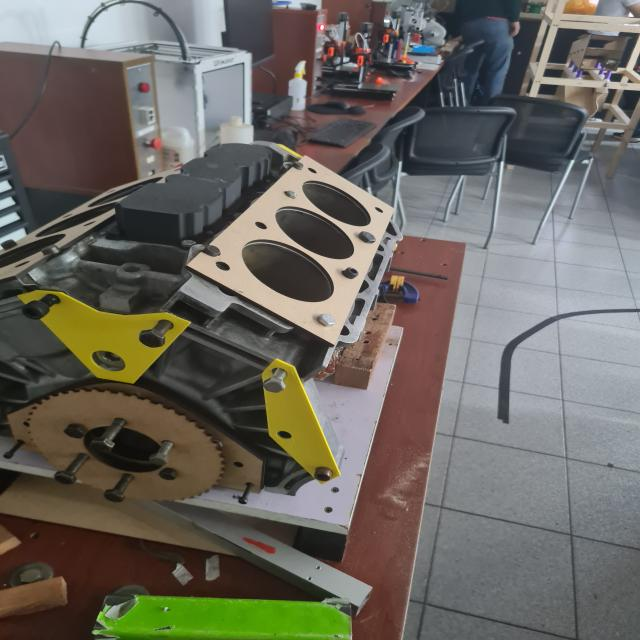vista1: (187, 156, 394, 345)
